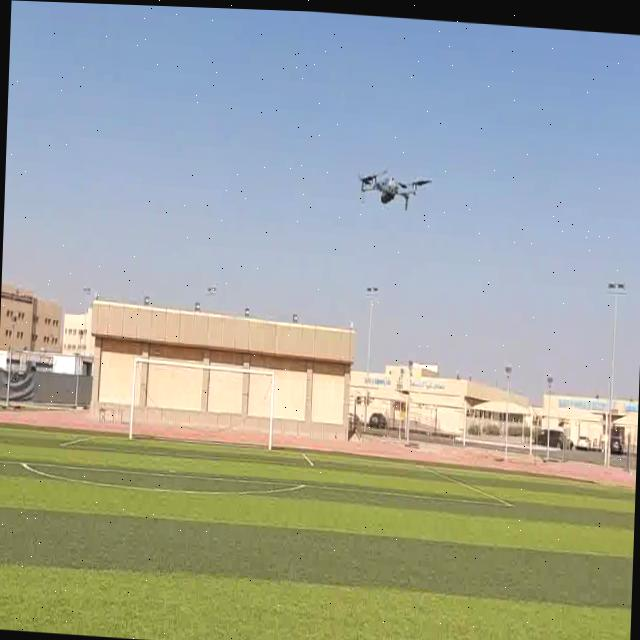drone: (352, 157, 431, 217)
